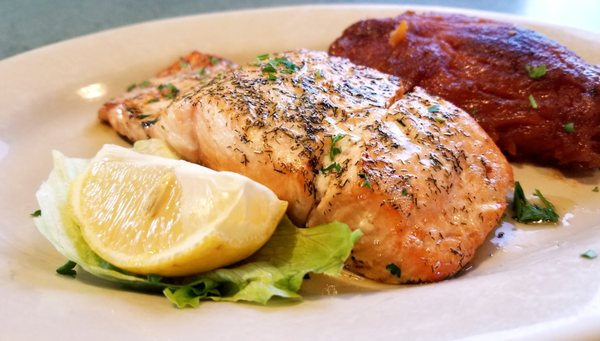taco: (64, 144, 286, 279)
